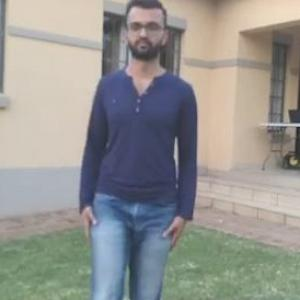follow: (89, 8, 198, 299)
